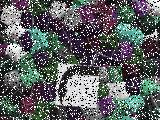Left: (55, 63, 99, 108)
